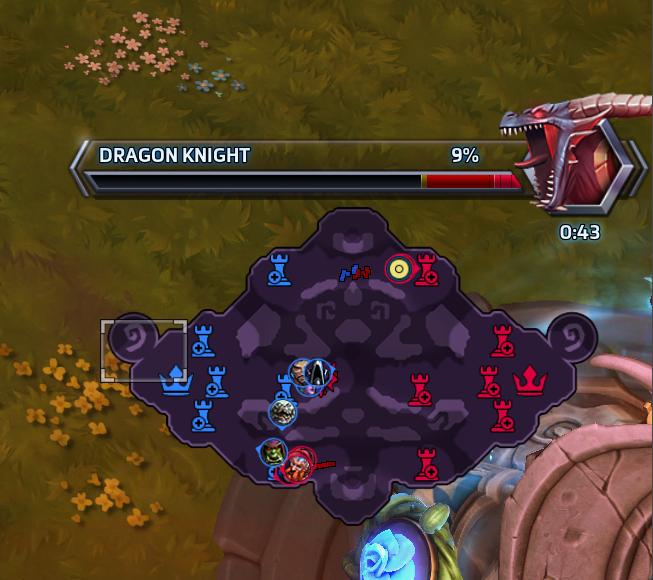blue nexus: (157, 363, 193, 394)
blue player: (301, 357, 333, 392), (256, 437, 288, 467), (268, 397, 297, 427), (287, 358, 313, 388)
blue tower: (266, 251, 292, 286), (190, 323, 216, 357), (190, 398, 216, 432), (204, 364, 229, 398), (274, 375, 295, 401), (209, 364, 226, 375)
red nexus: (508, 363, 551, 400)
red player: (272, 445, 316, 486), (385, 251, 421, 286)
red tower: (413, 444, 443, 486), (475, 365, 506, 401), (488, 398, 517, 435), (403, 372, 434, 406), (491, 321, 516, 356)
